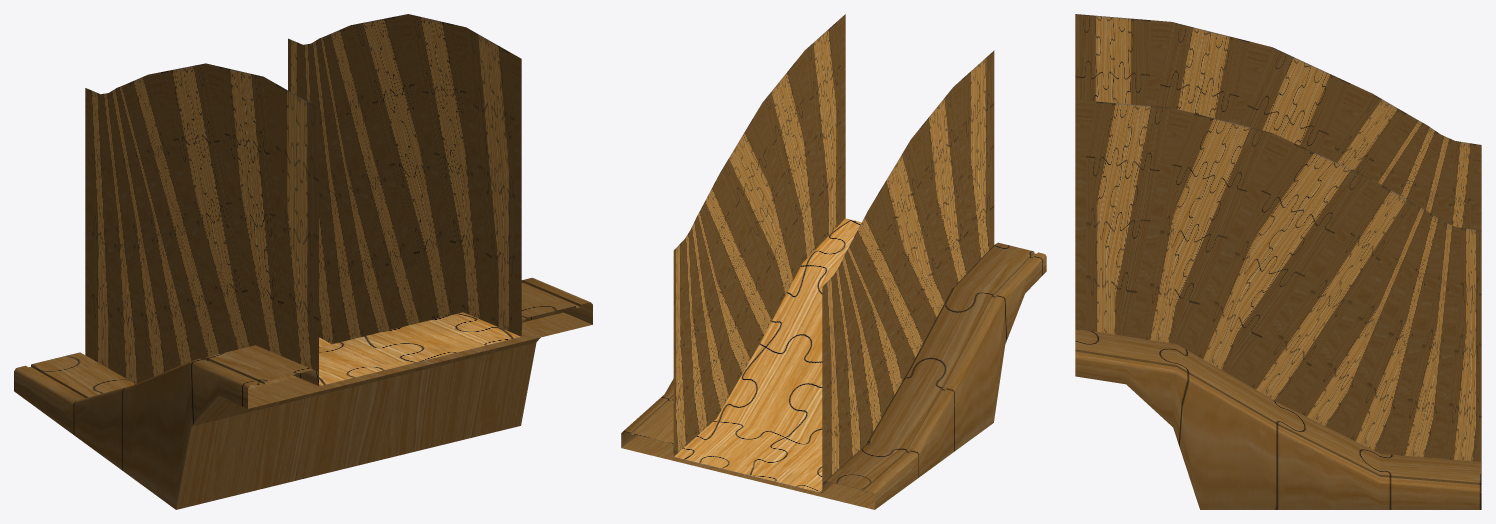
Rendered from Road_Ramp.fbx.
3 renders of one model, left to right at view 1: azimuth 30°, elevation 25°; view 2: azimuth 150°, elevation 25°; view 3: azimuth 270°, elevation 25°, orthographic. The views are drawn at different scales.
Visible parts, largest first — view 1: Road_Ramp_col, Road_Ramp; view 2: Road_Ramp_col, Road_Ramp; view 3: Road_Ramp_col, Road_Ramp.
Part boxes in pixels (x1=…): Road_Ramp_col: x1=85, y1=14, x2=521, y2=383; Road_Ramp: x1=14, y1=277, x2=592, y2=509; Road_Ramp_col: x1=673, y1=14, x2=994, y2=492; Road_Ramp: x1=621, y1=218, x2=1046, y2=509; Road_Ramp_col: x1=1075, y1=14, x2=1481, y2=461; Road_Ramp: x1=1075, y1=328, x2=1481, y2=509.
Bounding box in the file's own units: 2726 × 3300 × 3200.
